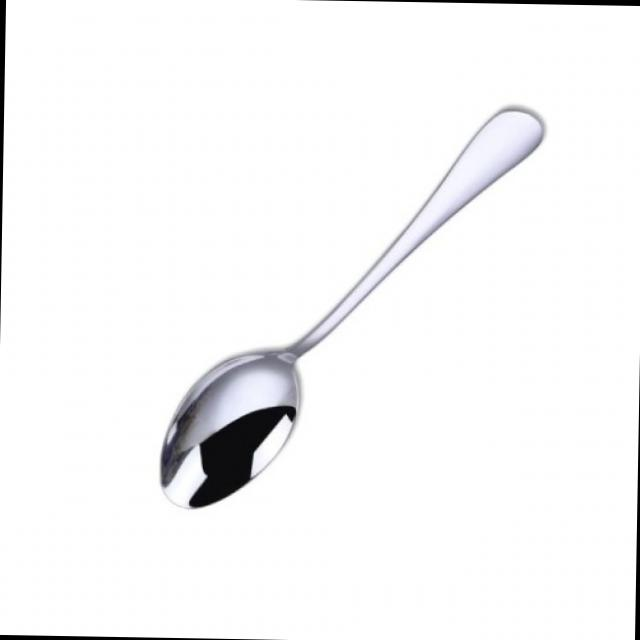spoon: (141, 73, 563, 542)
